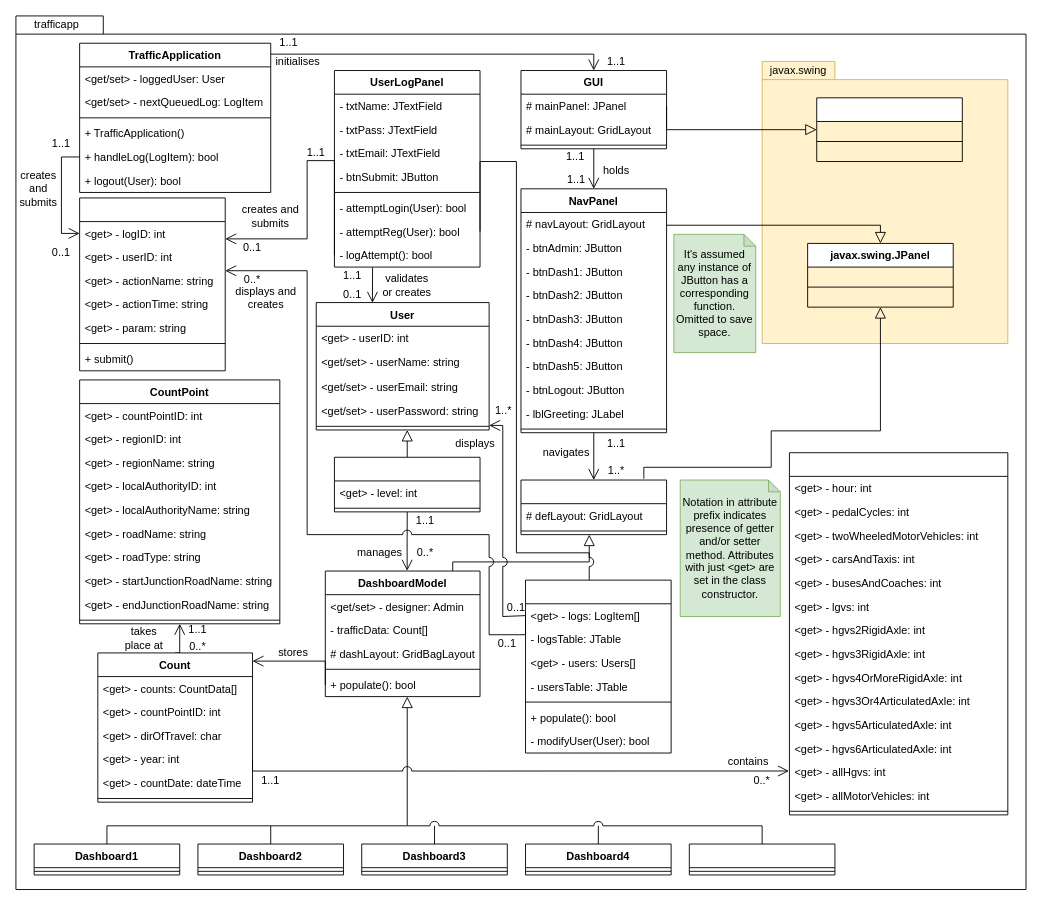
Some shapes in this 1042 by 905 pixel diagram are drawn without their labels. Each missing label, with the box of its shape:
Admin: (334, 456, 480, 512)
AdminPanel: (525, 579, 671, 753)
CountData: (789, 452, 1008, 815)
Dashboard5: (688, 843, 835, 875)
javax.swing.JFrame: (816, 97, 962, 162)
LogItem: (79, 197, 225, 371)
PanelModel: (520, 479, 667, 535)
